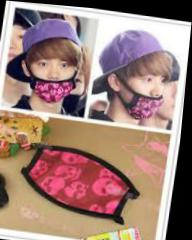NONE: (1, 28, 37, 74)
WRONG: (29, 54, 83, 105), (122, 63, 171, 119)
